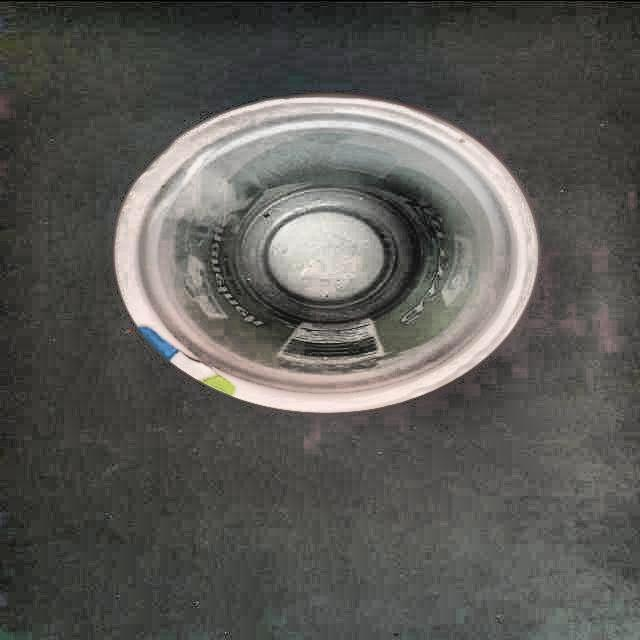plastic: (112, 95, 541, 416)
